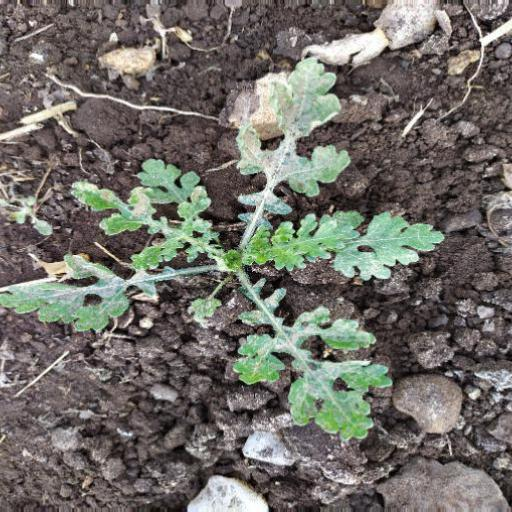weed: (8, 59, 450, 464)
